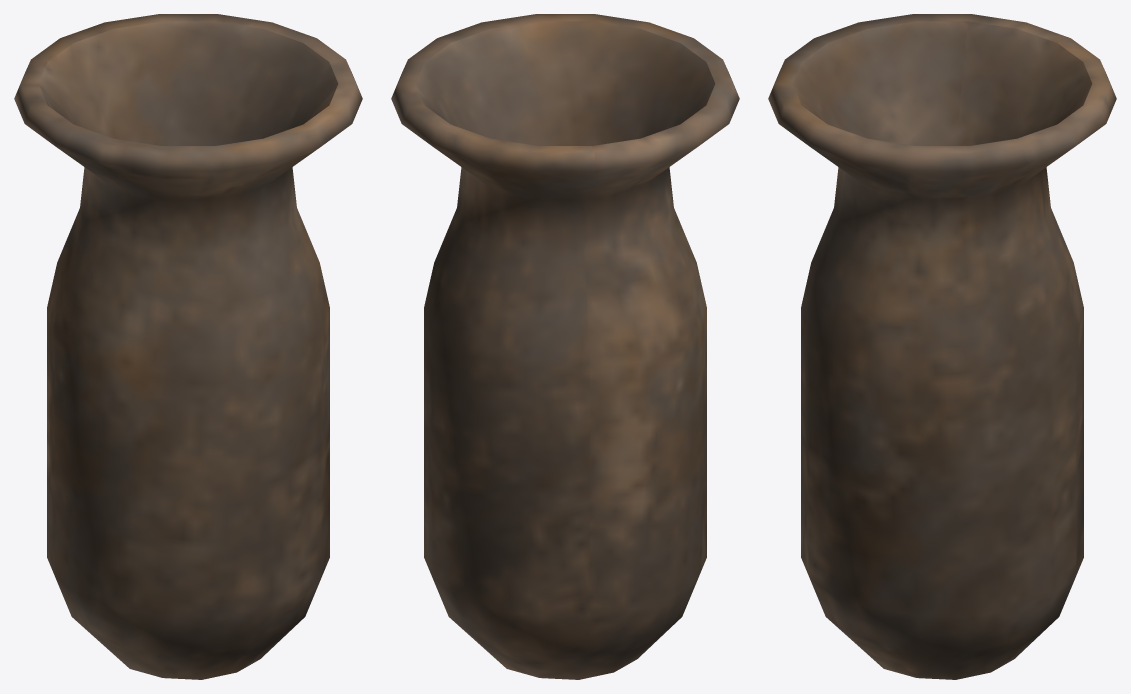
Rendered from SM_Pot_04.gltf.
3 views of the same model, side by side, from view 1: azimuth 30°, elevation 25°; view 2: azimuth 150°, elevation 25°; view 3: azimuth 270°, elevation 25° (orthographic).
Visible parts, largest first — view 1: SM_Pot_04_LOD0; view 2: SM_Pot_04_LOD0; view 3: SM_Pot_04_LOD0.
Part boxes in pixels (x1=…): SM_Pot_04_LOD0: x1=14, y1=14, x2=362, y2=679; SM_Pot_04_LOD0: x1=391, y1=14, x2=739, y2=679; SM_Pot_04_LOD0: x1=768, y1=14, x2=1116, y2=679.
Size of what is drawn, in the model's own units: 0.3602 by 0.6531 by 0.3657.
1 material, 1 textured.
